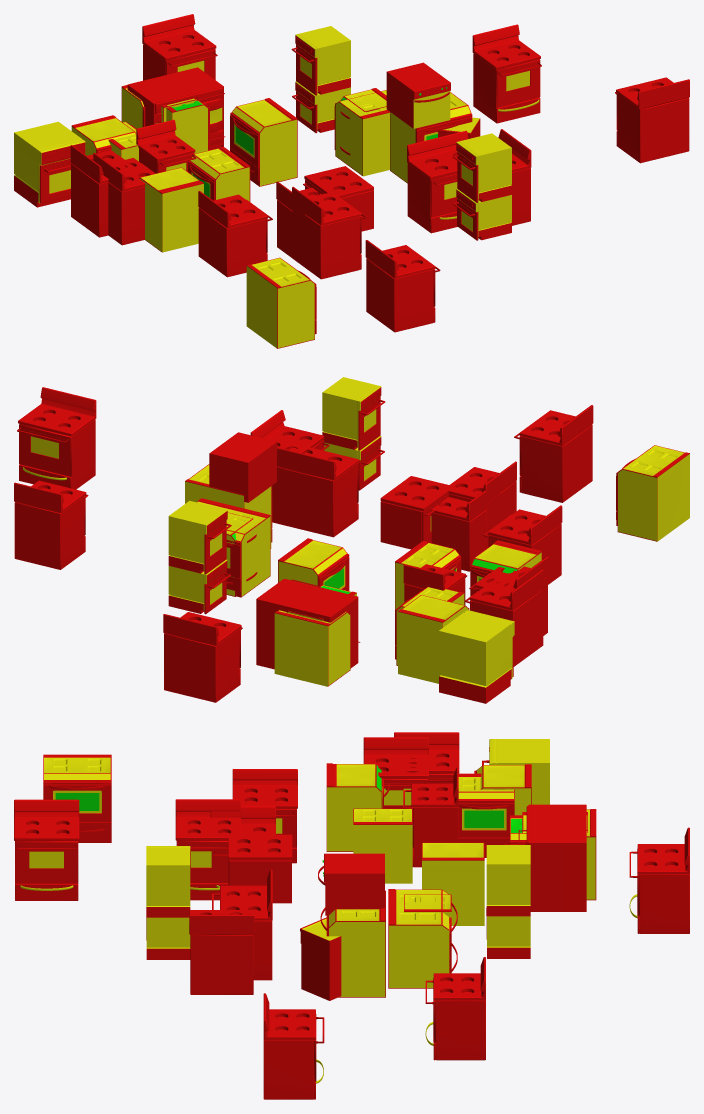
The model's file is ovens_grp.fbx.
The picture shows the model from 3 angles, top to bottom: view 1: azimuth 30°, elevation 25°; view 2: azimuth 150°, elevation 25°; view 3: azimuth 270°, elevation 25°; orthographic projection. The views are drawn at different scales.
Parts seen in each view (by area): view 1: oven_FP9, oven_FP18, oven_FP26, oven_FP27, oven_FP24_1, oven_FP11, oven_FP21, oven_FP5, oven_FP16, oven_FP8, oven_FP6_1, oven_FP13 (+31 smaller); view 2: oven_FP13, oven_FP23, oven_FP16, oven_FP18, oven_FP26, oven_FP8, oven_FP1, oven_FP3, oven_FP9, oven_FP7, oven_FP20, oven_FP29 (+25 smaller); view 3: oven_FP3, oven_FP21, oven_FP15, oven_FP9, oven_FP23, oven_FP8, oven_FP4, oven_FP5, oven_FP11, oven_FP12, oven_FP2, oven_FP29 (+26 smaller).
Boxes of the visible parts, <box> form: oven_FP9: <box>616,77,689,163</box>; oven_FP18: <box>246,257,314,348</box>; oven_FP26: <box>365,240,435,332</box>; oven_FP27: <box>292,186,361,279</box>; oven_FP24_1: <box>198,191,267,277</box>; oven_FP11: <box>139,167,203,252</box>; oven_FP21: <box>335,90,389,176</box>; oven_FP5: <box>231,98,297,186</box>; oven_FP16: <box>14,121,85,207</box>; oven_FP8: <box>472,24,540,122</box>; oven_FP6_1: <box>93,152,154,245</box>; oven_FP13: <box>407,130,468,232</box>; oven_FP13: <box>272,447,359,537</box>; oven_FP23: <box>163,612,241,702</box>; oven_FP16: <box>439,610,514,703</box>; oven_FP18: <box>617,445,689,541</box>; oven_FP26: <box>519,405,593,502</box>; oven_FP8: <box>14,480,86,569</box>; oven_FP1: <box>274,610,350,686</box>; oven_FP3: <box>256,579,358,669</box>; oven_FP9: <box>18,387,96,489</box>; oven_FP7: <box>398,595,468,683</box>; oven_FP20: <box>469,569,543,666</box>; oven_FP29: <box>209,433,275,502</box>; oven_FP3: <box>526,804,586,911</box>; oven_FP21: <box>388,889,449,988</box>; oven_FP15: <box>189,910,254,994</box>; oven_FP9: <box>263,993,315,1099</box>; oven_FP23: <box>637,827,689,933</box>; oven_FP8: <box>433,957,485,1060</box>; oven_FP4: <box>328,890,385,997</box>; oven_FP5: <box>422,842,484,925</box>; oven_FP11: <box>326,763,381,851</box>; oven_FP12: <box>228,834,292,903</box>; oven_FP2: <box>353,808,412,883</box>; oven_FP29: <box>327,853,384,915</box>.
Size of the model in its own units: 926 by 162 by 892.
